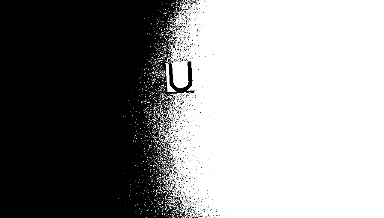U: (165, 60, 195, 90)
